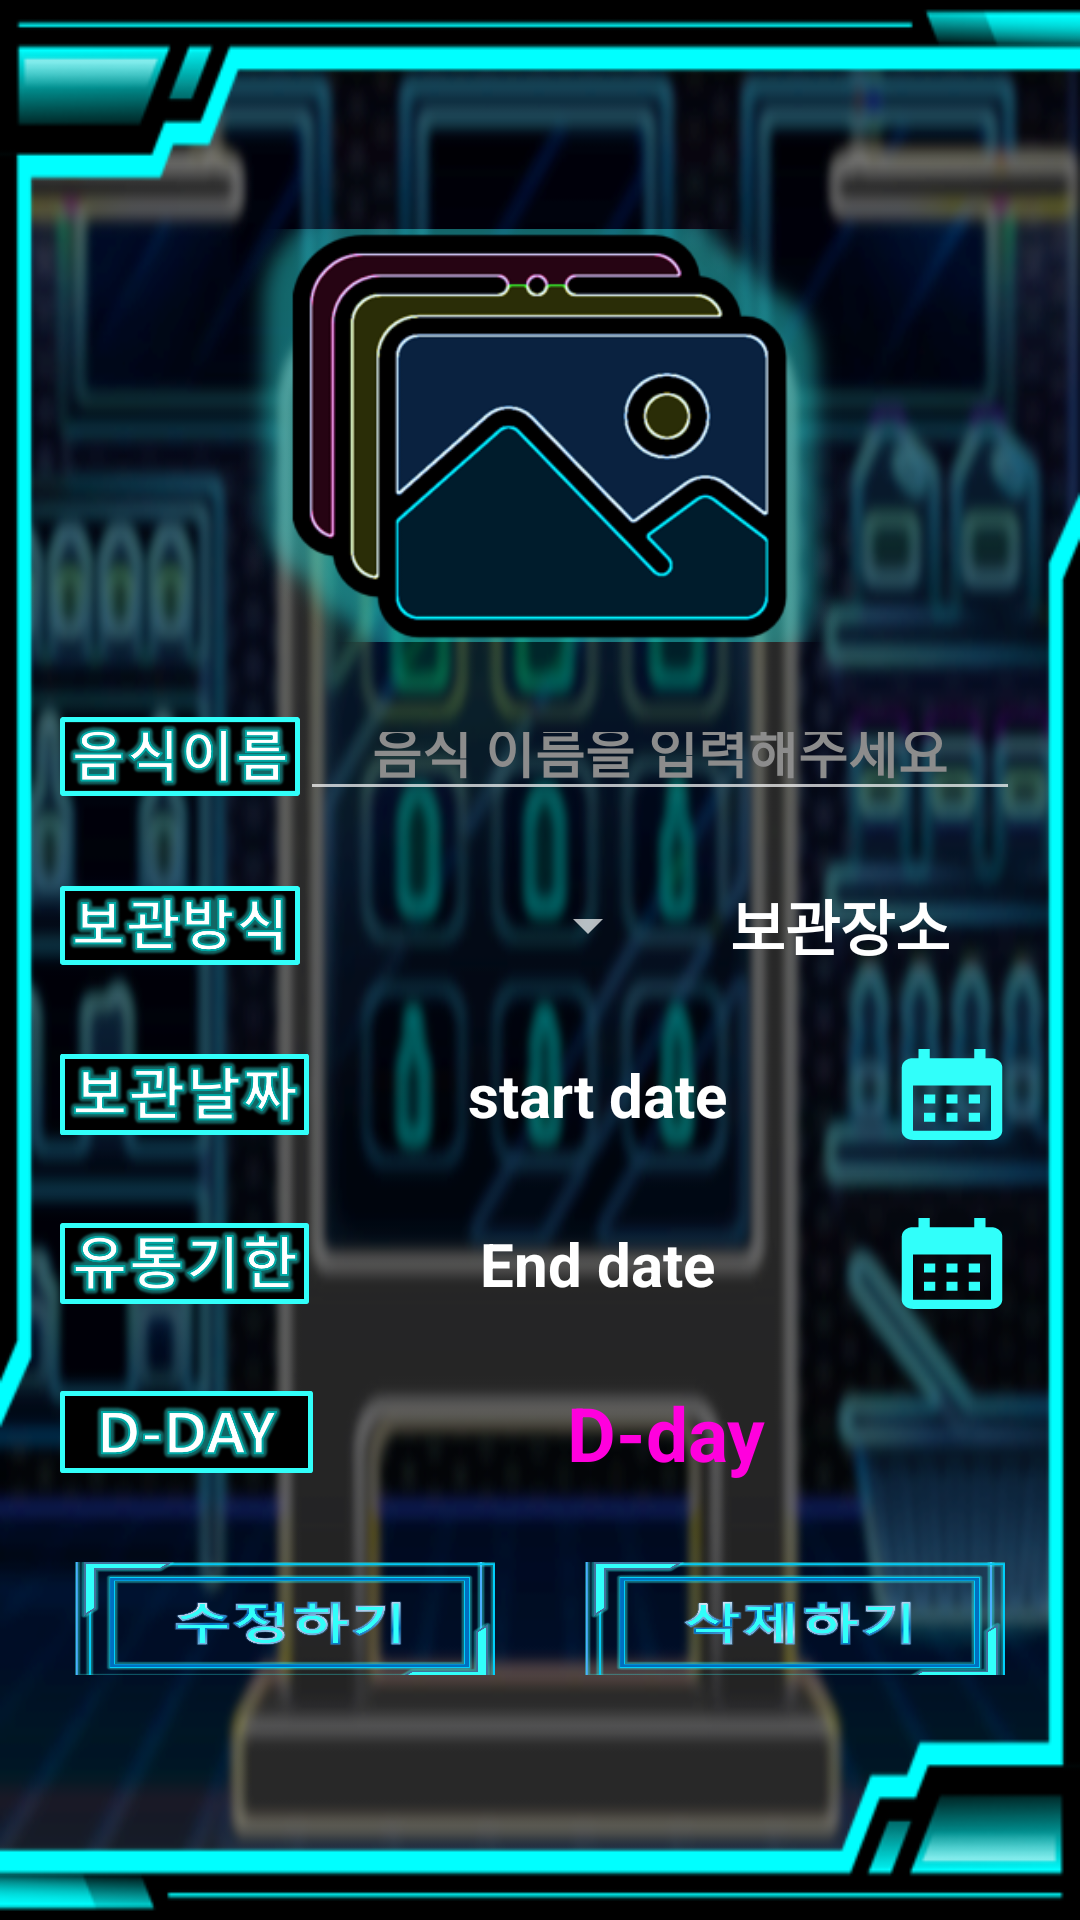

Icons on this 1080×1920 Android screen, each with the point to tap as (x,y):
calendar month: (952,1090), (944,1268)
